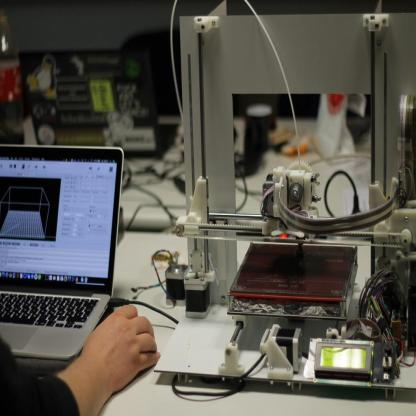board: (0, 145, 124, 361)
